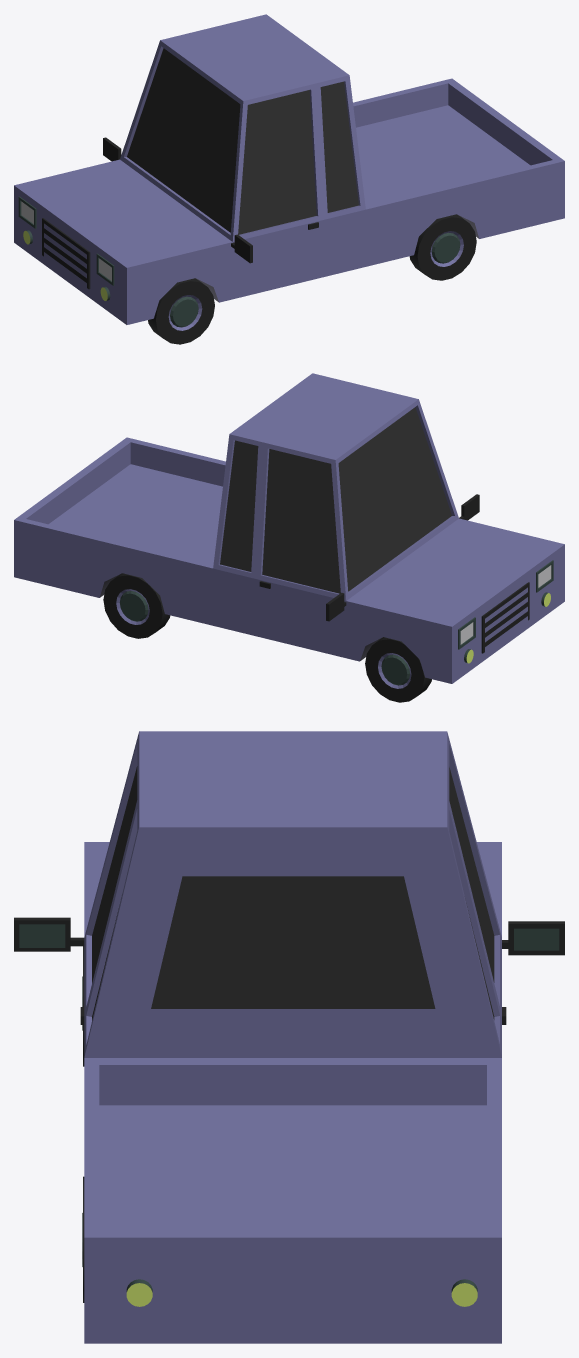
The model's file is pick up3.FBX.
3 renders of one model, top to bottom at view 1: azimuth 30°, elevation 25°; view 2: azimuth 150°, elevation 25°; view 3: azimuth 270°, elevation 25°, orthographic. The views are drawn at different scales.
Visible parts, largest first — view 1: pick up3; view 2: pick up3; view 3: pick up3.
Part boxes in pixels (left/top/right/bottom): pick up3: left=14, top=14, right=564, bottom=344; pick up3: left=14, top=373, right=564, bottom=702; pick up3: left=14, top=731, right=564, bottom=1343.
Bounding box in the file's own units: 11.38 × 5.22 × 6.6.
